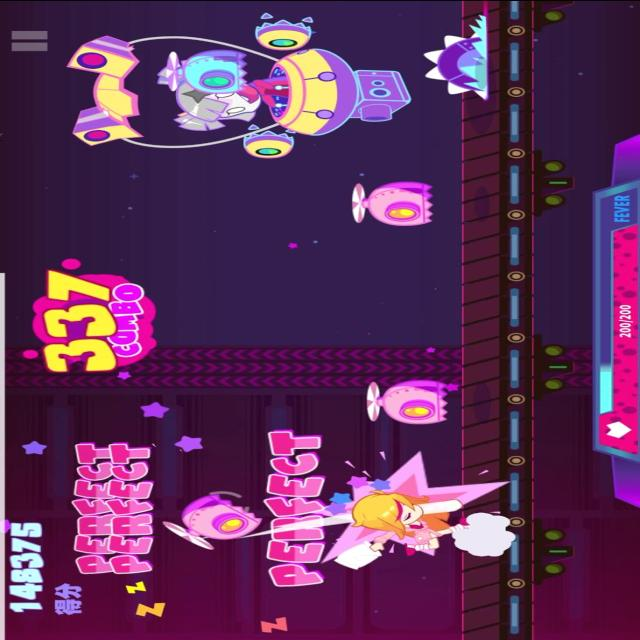ci: (415, 12, 493, 98)
jiqiqiu: (340, 178, 440, 234), (166, 494, 260, 546), (362, 376, 454, 424)
qiangboss: (51, 7, 424, 154)
